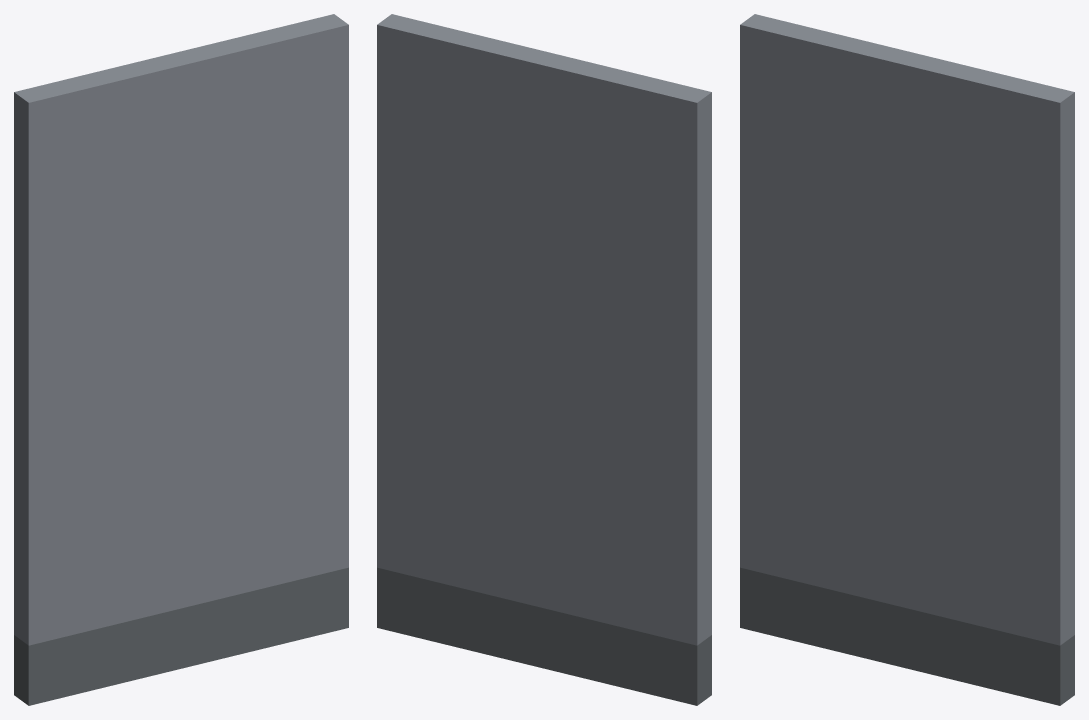
File: Wall3_01.fbx
3 views of the same model, side by side, from view 1: azimuth 30°, elevation 25°; view 2: azimuth 150°, elevation 25°; view 3: azimuth 330°, elevation 25° (orthographic).
Parts seen in each view (by area): view 1: Wall3_01; view 2: Wall3_01; view 3: Wall3_01.
Boxes of the visible parts, x1=… form: Wall3_01: x1=14, y1=14, x2=348, y2=705; Wall3_01: x1=377, y1=14, x2=711, y2=705; Wall3_01: x1=740, y1=14, x2=1074, y2=705.
Size of the model in its own units: 500 by 900 by 40.
